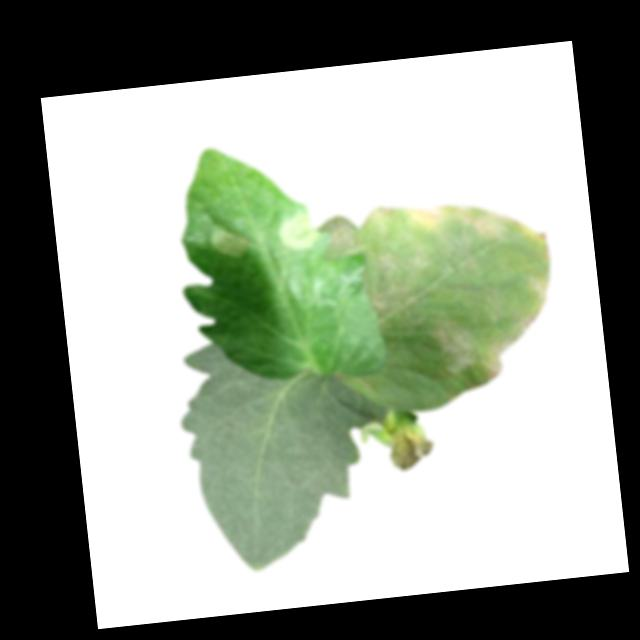Late_blight: (314, 186, 563, 398), (386, 424, 436, 475), (275, 211, 320, 253), (210, 223, 254, 260)
healthy: (171, 327, 401, 579)
